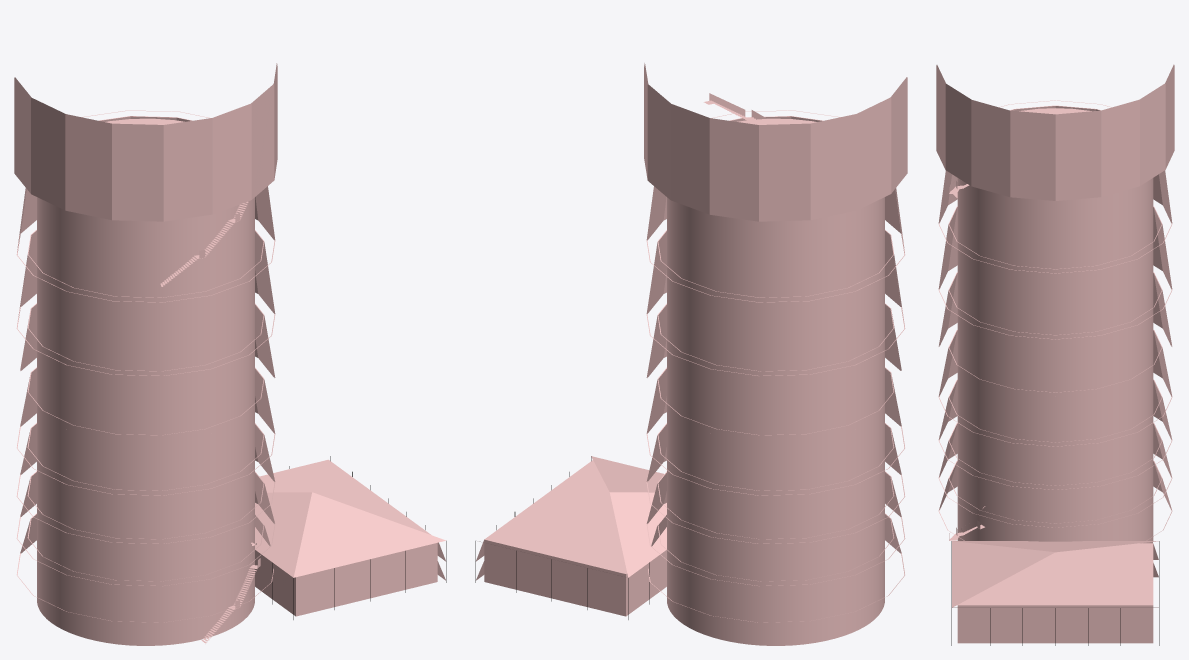
File: 03-accumulator.glb
The picture shows the model from 3 angles, left to right: view 1: azimuth 30°, elevation 25°; view 2: azimuth 150°, elevation 25°; view 3: azimuth 270°, elevation 25°; orthographic projection. The views are drawn at different scales.
Size of the model in its own units: 52990 by 75180 by 34070.
